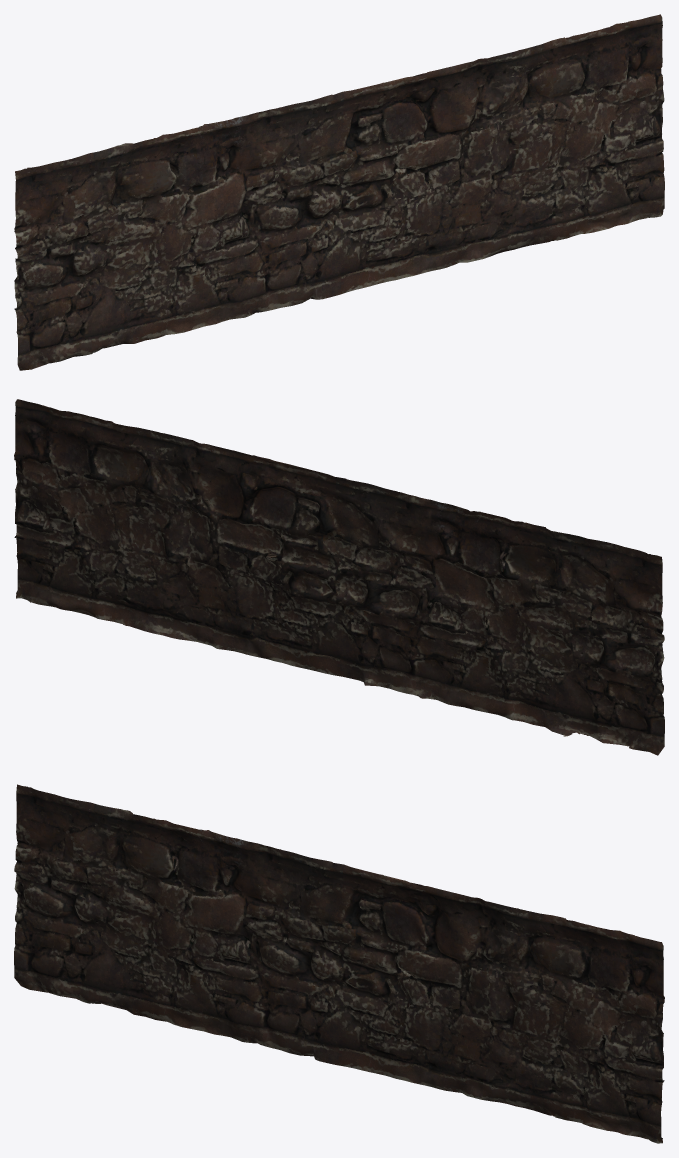
File: W_Room_wall.fbx
3 views of the same model, one above another, from view 1: azimuth 30°, elevation 25°; view 2: azimuth 150°, elevation 25°; view 3: azimuth 330°, elevation 25° (orthographic).
Visible parts, largest first — view 1: SM_CellarWallSet_Straight_LOD0; view 2: SM_CellarWallSet_Straight_LOD0; view 3: SM_CellarWallSet_Straight_LOD0.
Part boxes in pixels (bbox=[...]): SM_CellarWallSet_Straight_LOD0: bbox=[14, 14, 664, 370]; SM_CellarWallSet_Straight_LOD0: bbox=[14, 399, 664, 755]; SM_CellarWallSet_Straight_LOD0: bbox=[14, 784, 664, 1143].
Bounding box in the file's own units: 700 × 207 × 14.43.
